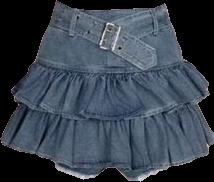Hemline: (0, 138, 213, 179), (10, 83, 210, 120)
Waistline: (48, 22, 172, 52), (55, 0, 164, 23), (34, 59, 184, 73)
